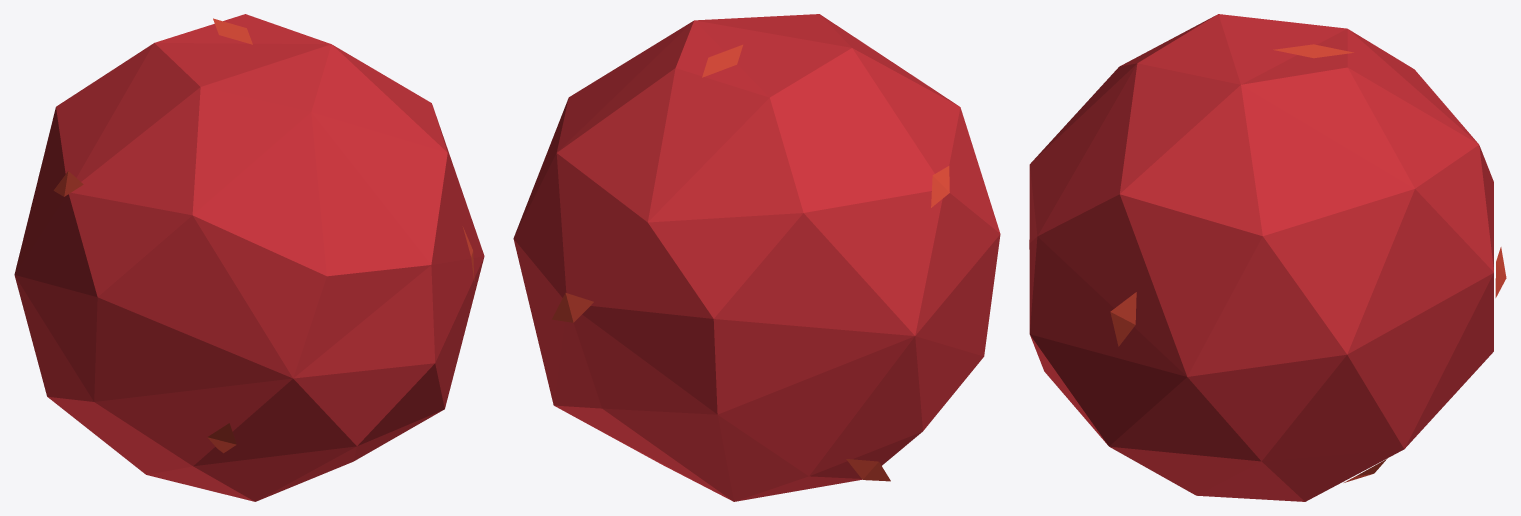
File: japan-shrub-round-leaves.glb
3 renders of one model, left to right at view 1: azimuth 30°, elevation 25°; view 2: azimuth 150°, elevation 25°; view 3: azimuth 270°, elevation 25°, orthographic. The views are drawn at different scales.
Visible parts, largest first — view 1: shrub-round-leaves; view 2: shrub-round-leaves; view 3: shrub-round-leaves.
Part boxes in pixels (left/top/right/bottom): shrub-round-leaves: left=14, top=14, right=484, bottom=501; shrub-round-leaves: left=513, top=14, right=1000, bottom=501; shrub-round-leaves: left=1029, top=14, right=1506, bottom=501.
Size of the model in its own units: 1.46 by 1.47 by 1.51.
